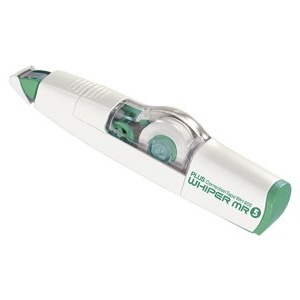correction tape: (7, 65, 291, 235)
